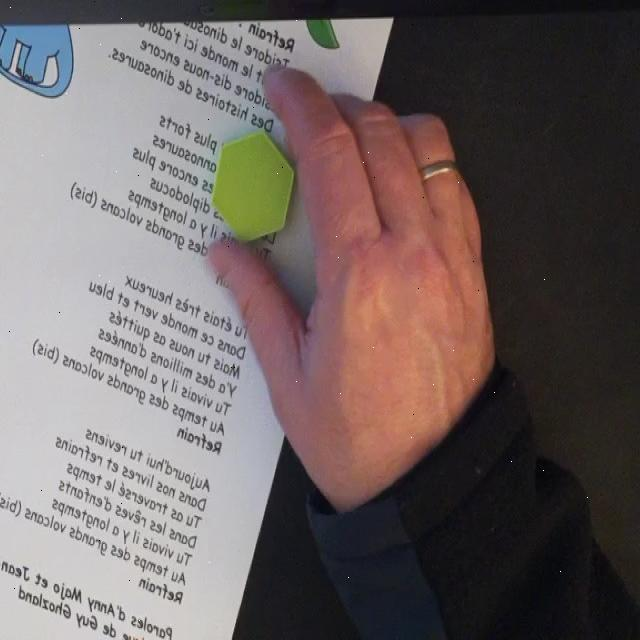hexagon: (210, 129, 295, 243)
